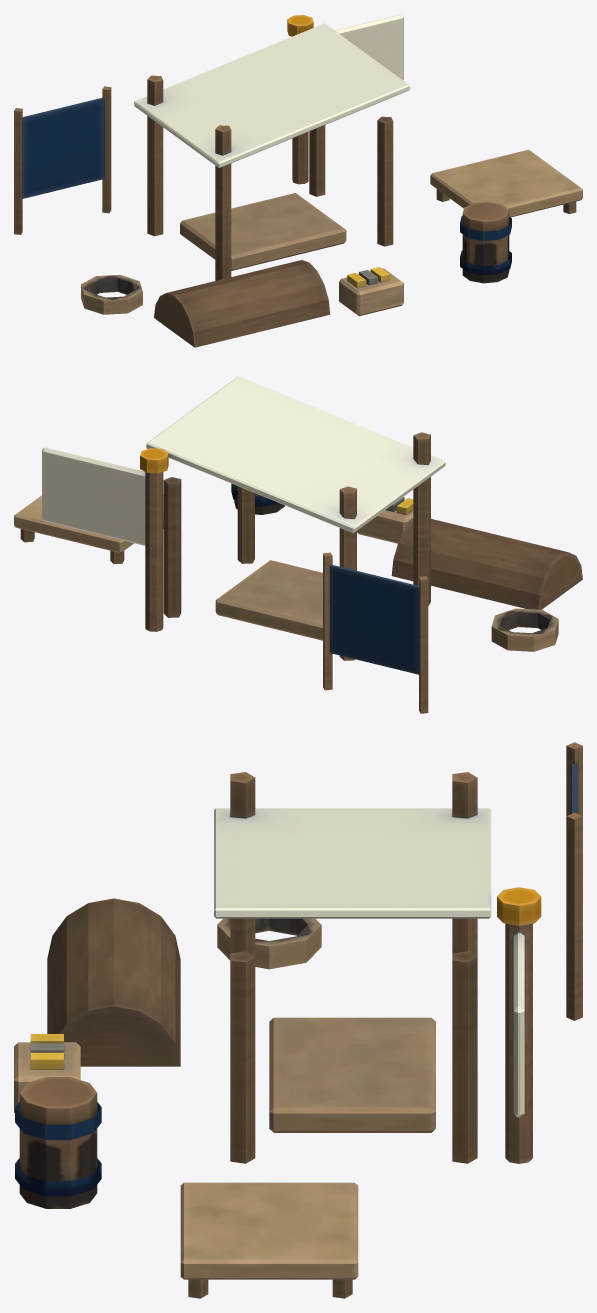
Rendered from fishery-1.glb.
3 renders of one model, top to bottom at view 1: azimuth 30°, elevation 25°; view 2: azimuth 150°, elevation 25°; view 3: azimuth 270°, elevation 25°, orthographic. The views are drawn at different scales.
Parts seen in each view (by area): view 1: fishery-1; view 2: fishery-1; view 3: fishery-1.
Part boxes in pixels (bbox=[...]): fishery-1: bbox=[14, 14, 582, 347]; fishery-1: bbox=[14, 376, 582, 713]; fishery-1: bbox=[14, 742, 582, 1298].
Size of the model in its own units: 1.6 by 0.5214 by 1.02.
1 material, 1 textured.
